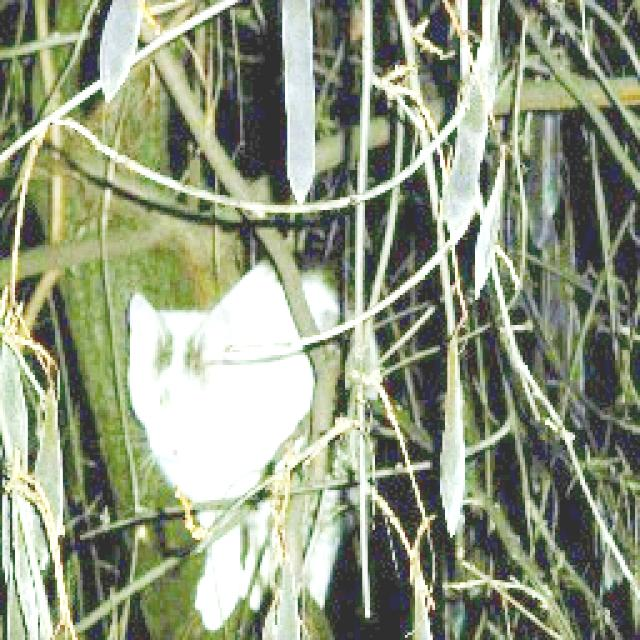cat: (119, 264, 376, 630)
